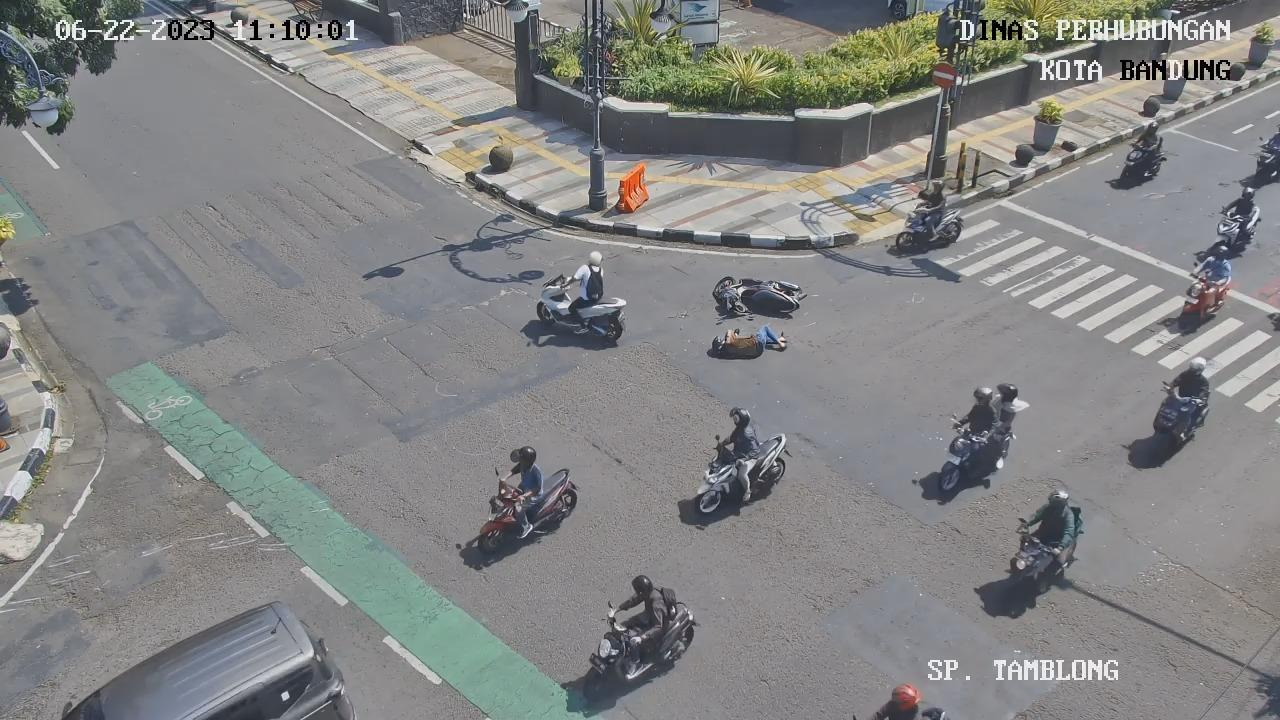accident: (707, 323, 790, 361)
